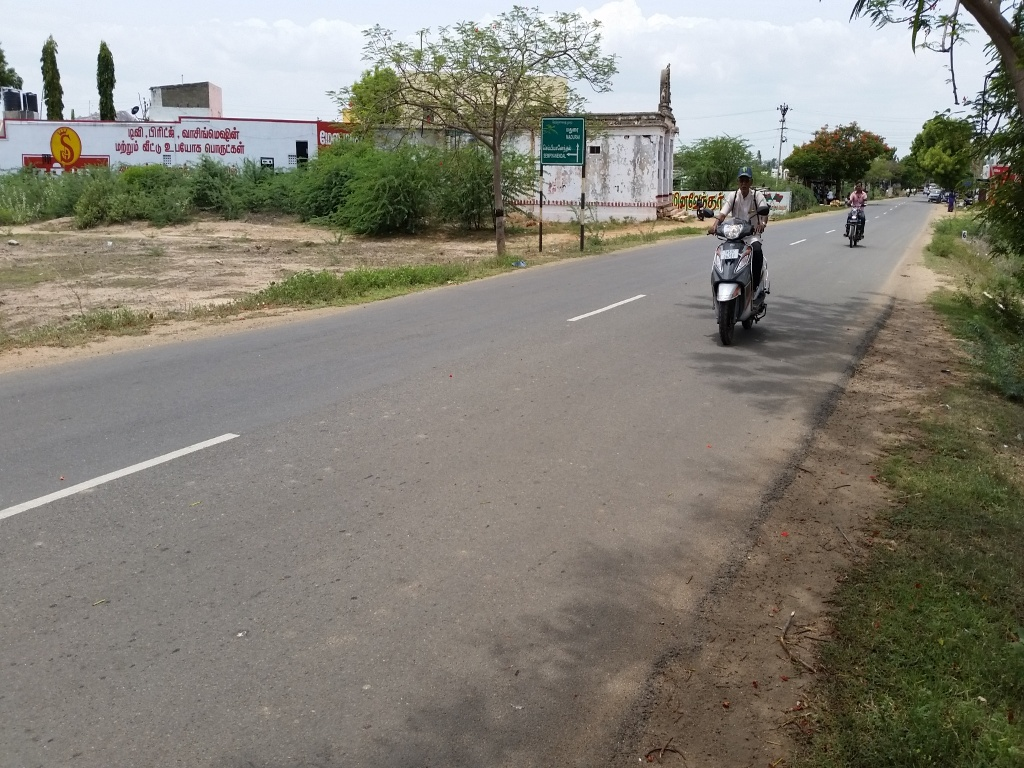biker: (693, 132, 790, 354), (830, 151, 888, 257)
nohelmet: (730, 161, 763, 198), (852, 175, 869, 199)
